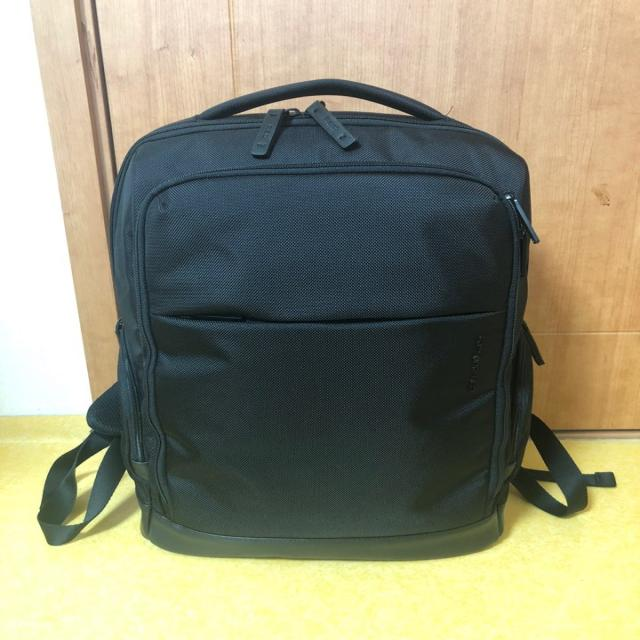backpack: (64, 70, 595, 568)
